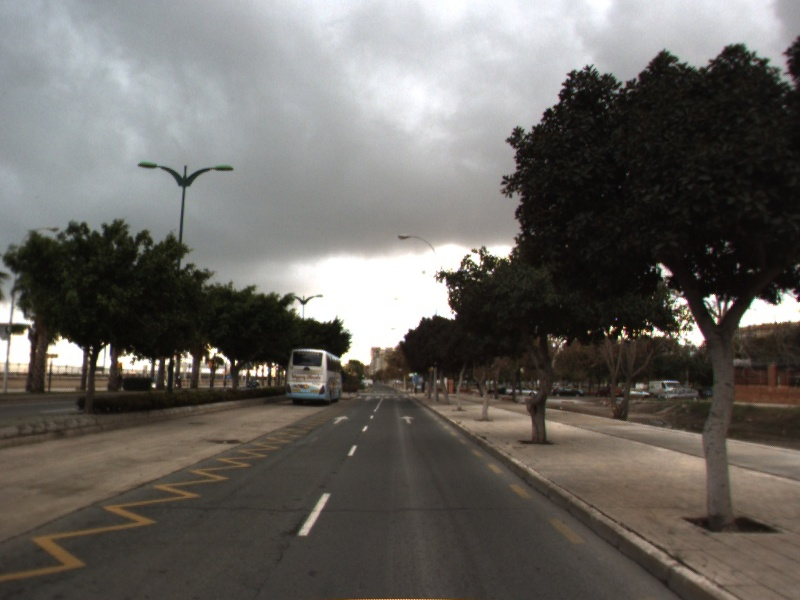STRAIGHT: (331, 414, 351, 426), (398, 414, 417, 425)
